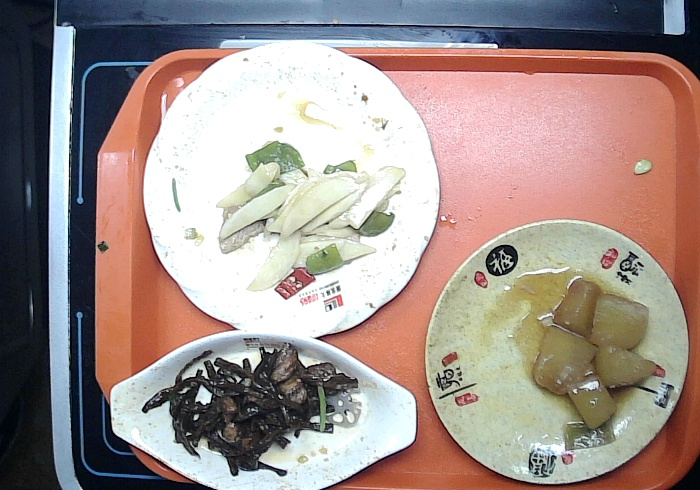NLDX-Bai_Zhe_Yuan_Pan: (140, 37, 443, 339)
NLDX-Fu_Zi_Yuan_Pan: (422, 215, 691, 488)
NLDX-Yu_Pan: (105, 325, 418, 490)
